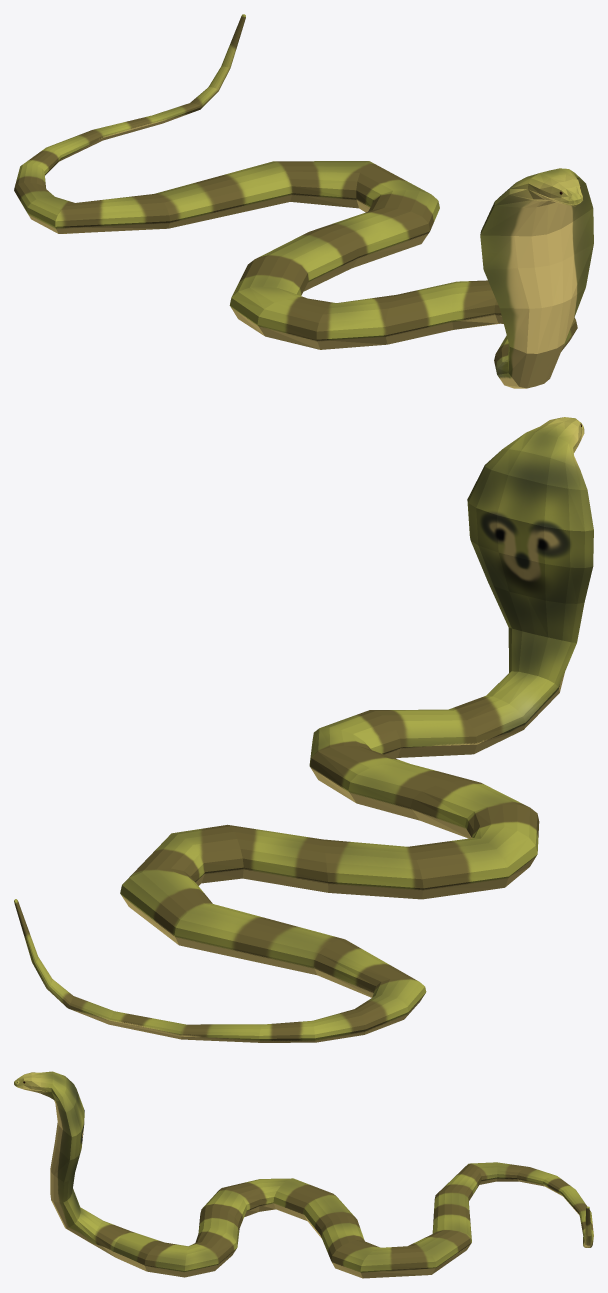
The model's file is cobra.obj.
3 renders of one model, top to bottom at view 1: azimuth 30°, elevation 25°; view 2: azimuth 150°, elevation 25°; view 3: azimuth 270°, elevation 25°, orthographic. The views are drawn at different scales.
Bounding box in the file's own units: 7.22 × 5.5 × 16.82.
3 materials, 1 textured.
